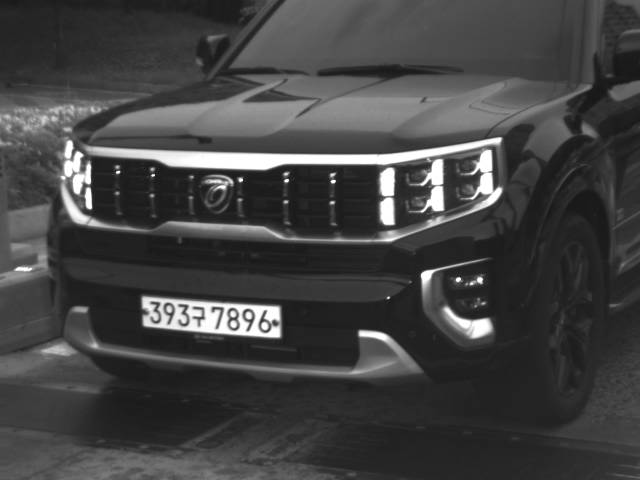car: (47, 1, 639, 426)
plate: (139, 294, 283, 339)
